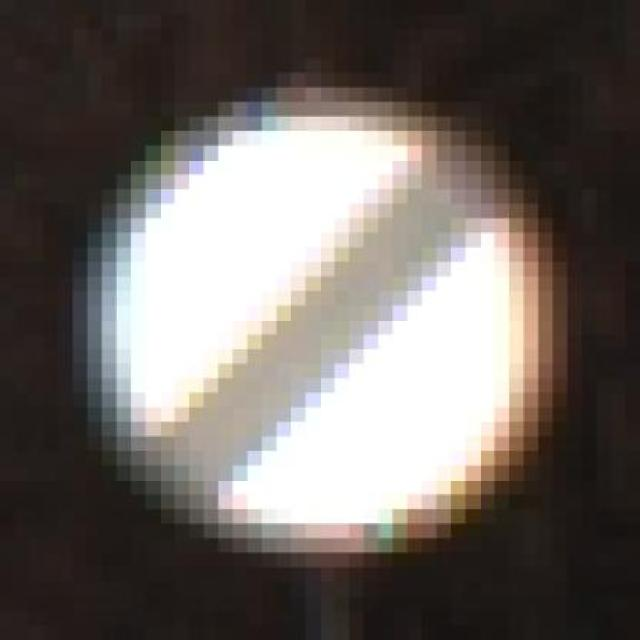End of all speed and passing limits: (73, 73, 582, 582)
